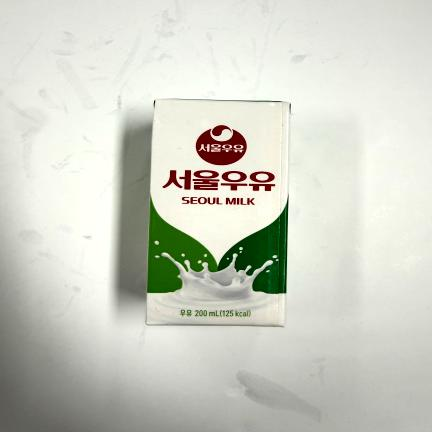milk_green: (146, 99, 291, 327)
